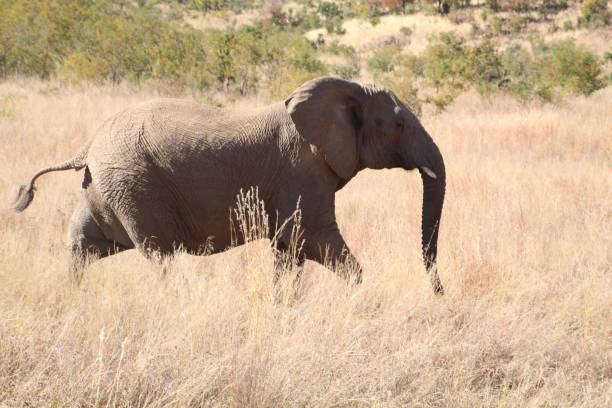africanelephant: (307, 83, 450, 206)
